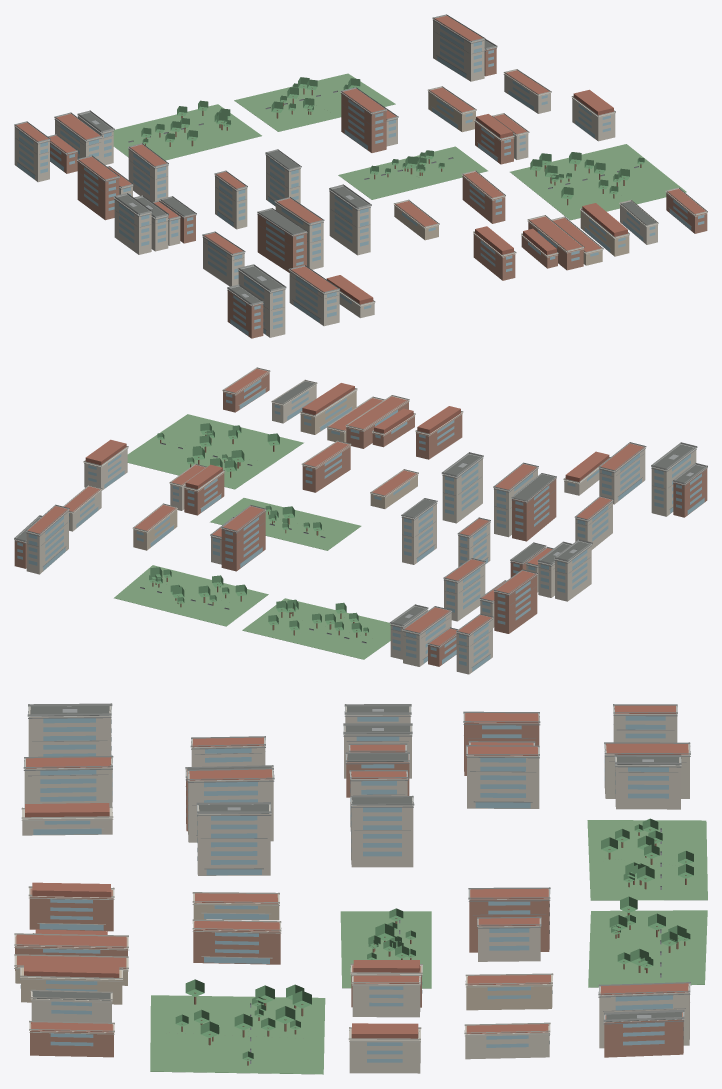
3 views of the same model, one above another, from view 1: azimuth 30°, elevation 25°; view 2: azimuth 150°, elevation 25°; view 3: azimuth 270°, elevation 25° (orthographic). The views are drawn at different scales.
Visible parts, largest first — view 1: neighborhood-park-block-127-mesh-15, neighborhood-park-block-067-mesh-0, neighborhood-park-block-099-mesh-10, neighborhood-park-block-097-mesh-5, building-0177-mesh-105, building-0179-mesh-115, building-0260-mesh-161, building-0326-mesh-211, neighborhood-park-block-127-mesh-18, building-0089-mesh-64, building-0083-mesh-32, building-0085-mesh-42 (+38 smaller); view 2: neighborhood-park-block-127-mesh-15, neighborhood-park-block-067-mesh-0, neighborhood-park-block-099-mesh-10, neighborhood-park-block-097-mesh-5, building-0177-mesh-105, building-0089-mesh-64, building-0179-mesh-115, building-0260-mesh-161, neighborhood-park-block-127-mesh-18, building-0326-mesh-211, building-0091-mesh-74, building-0181-mesh-126 (+38 smaller); view 3: neighborhood-park-block-127-mesh-15, neighborhood-park-block-067-mesh-0, neighborhood-park-block-099-mesh-10, neighborhood-park-block-097-mesh-5, building-0179-mesh-115, building-0181-mesh-126, neighborhood-park-block-127-mesh-18, building-0091-mesh-74, building-0327-mesh-216, building-0082-mesh-26, building-0095-mesh-94, building-0083-mesh-32 (+64 smaller).
Boxes of the visible parts, left/top/right/bottom form: neighborhood-park-block-127-mesh-15: left=510, top=144, right=686, bottom=220; neighborhood-park-block-067-mesh-0: left=113, top=104, right=261, bottom=160; neighborhood-park-block-099-mesh-10: left=234, top=73, right=395, bottom=131; neighborhood-park-block-097-mesh-5: left=338, top=146, right=487, bottom=199; building-0177-mesh-105: left=257, top=213, right=306, bottom=272; building-0179-mesh-115: left=329, top=190, right=370, bottom=255; building-0260-mesh-161: left=341, top=93, right=386, bottom=152; building-0326-mesh-211: left=433, top=19, right=484, bottom=81; neighborhood-park-block-127-mesh-18: left=530, top=152, right=644, bottom=199; building-0089-mesh-64: left=77, top=161, right=119, bottom=220; building-0083-mesh-32: left=289, top=271, right=339, bottom=326; building-0085-mesh-42: left=114, top=199, right=151, bottom=254; neighborhood-park-block-127-mesh-15: left=127, top=414, right=303, bottom=489; neighborhood-park-block-067-mesh-0: left=242, top=598, right=390, bottom=659; neighborhood-park-block-099-mesh-10: left=114, top=565, right=268, bottom=626; neighborhood-park-block-097-mesh-5: left=210, top=498, right=361, bottom=550; building-0177-mesh-105: left=512, top=478, right=556, bottom=541; building-0089-mesh-64: left=494, top=575, right=537, bottom=633; building-0179-mesh-115: left=442, top=458, right=482, bottom=523; building-0260-mesh-161: left=221, top=510, right=265, bottom=571; neighborhood-park-block-127-mesh-18: left=157, top=423, right=279, bottom=471; building-0326-mesh-211: left=26, top=510, right=68, bottom=574; building-0091-mesh-74: left=444, top=563, right=485, bottom=621; building-0181-mesh-126: left=402, top=502, right=436, bottom=564; neighborhood-park-block-127-mesh-15: left=150, top=995, right=325, bottom=1074; neighborhood-park-block-067-mesh-0: left=587, top=820, right=707, bottom=900; neighborhood-park-block-099-mesh-10: left=588, top=910, right=707, bottom=987; neighborhood-park-block-097-mesh-5: left=340, top=911, right=431, bottom=988; building-0179-mesh-115: left=197, top=805, right=270, bottom=875; building-0181-mesh-126: left=351, top=798, right=413, bottom=867; neighborhood-park-block-127-mesh-18: left=175, top=979, right=311, bottom=1061; building-0091-mesh-74: left=467, top=747, right=539, bottom=808; building-0327-mesh-216: left=604, top=1012, right=683, bottom=1057; building-0082-mesh-26: left=28, top=706, right=111, bottom=756; building-0095-mesh-94: left=615, top=757, right=680, bottom=809; building-0083-mesh-32: left=24, top=758, right=112, bottom=807.
Bounding box in the file's own units: 257 × 24.33 × 238.
